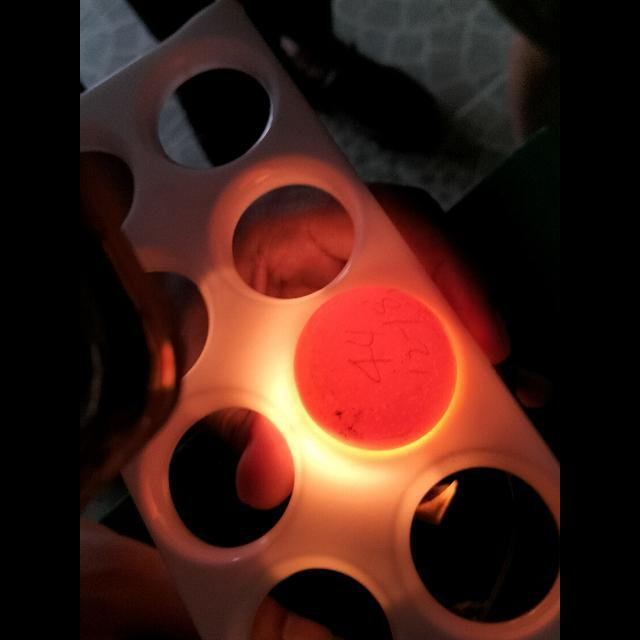Infertile: (290, 288, 460, 447)
